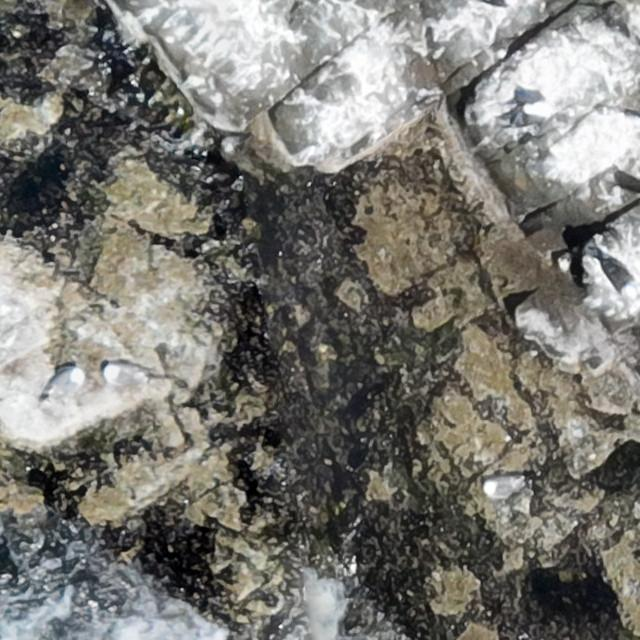umineko: (598, 250, 639, 302), (41, 368, 88, 400), (511, 101, 554, 130), (103, 363, 147, 386), (485, 476, 521, 496)
